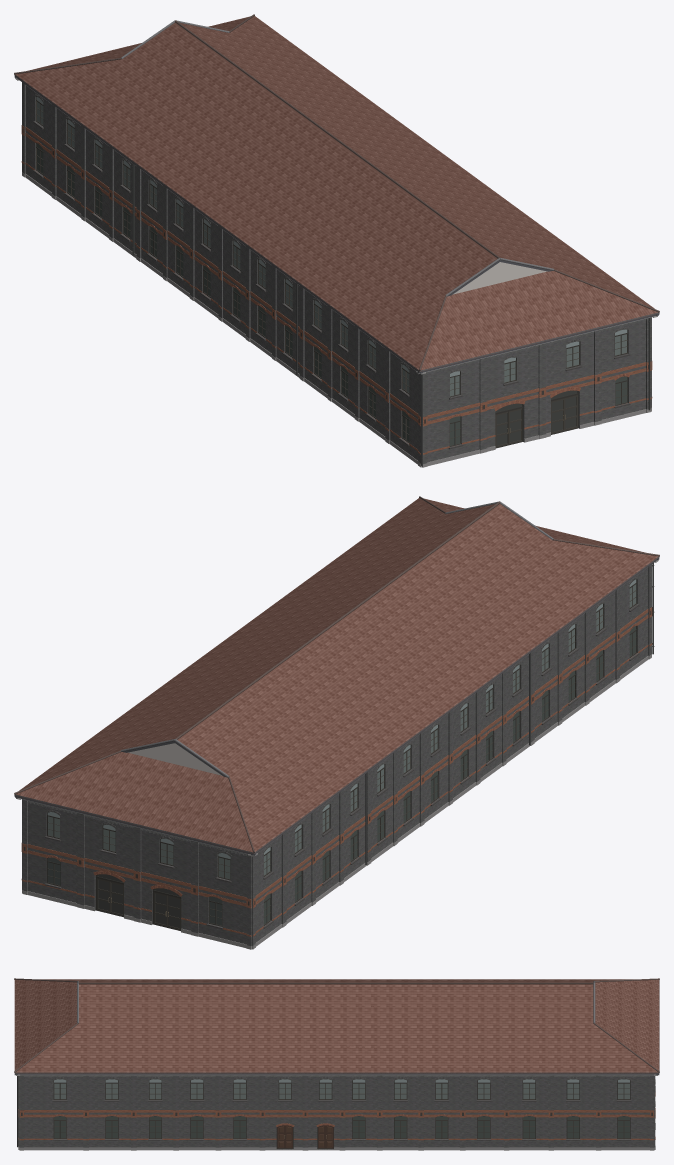
File: hongkou-yimin-food-factory-former-canteen-lod.glb
The picture shows the model from 3 angles, top to bottom: view 1: azimuth 30°, elevation 25°; view 2: azimuth 150°, elevation 25°; view 3: azimuth 270°, elevation 25°; orthographic projection. The views are drawn at different scales.
Visible parts, largest first — view 1: 益民食品一厂旧食堂改建展厅; view 2: 益民食品一厂旧食堂改建展厅; view 3: 益民食品一厂旧食堂改建展厅.
Boxes of the visible parts, left/top/right/bottom form: 益民食品一厂旧食堂改建展厅: left=14, top=14, right=659, bottom=467; 益民食品一厂旧食堂改建展厅: left=14, top=496, right=659, bottom=949; 益民食品一厂旧食堂改建展厅: left=14, top=978, right=659, bottom=1150.
Bounding box in the file's own units: 19.72 × 12.11 × 57.51.
Materials: 32 (3 with a texture image).
